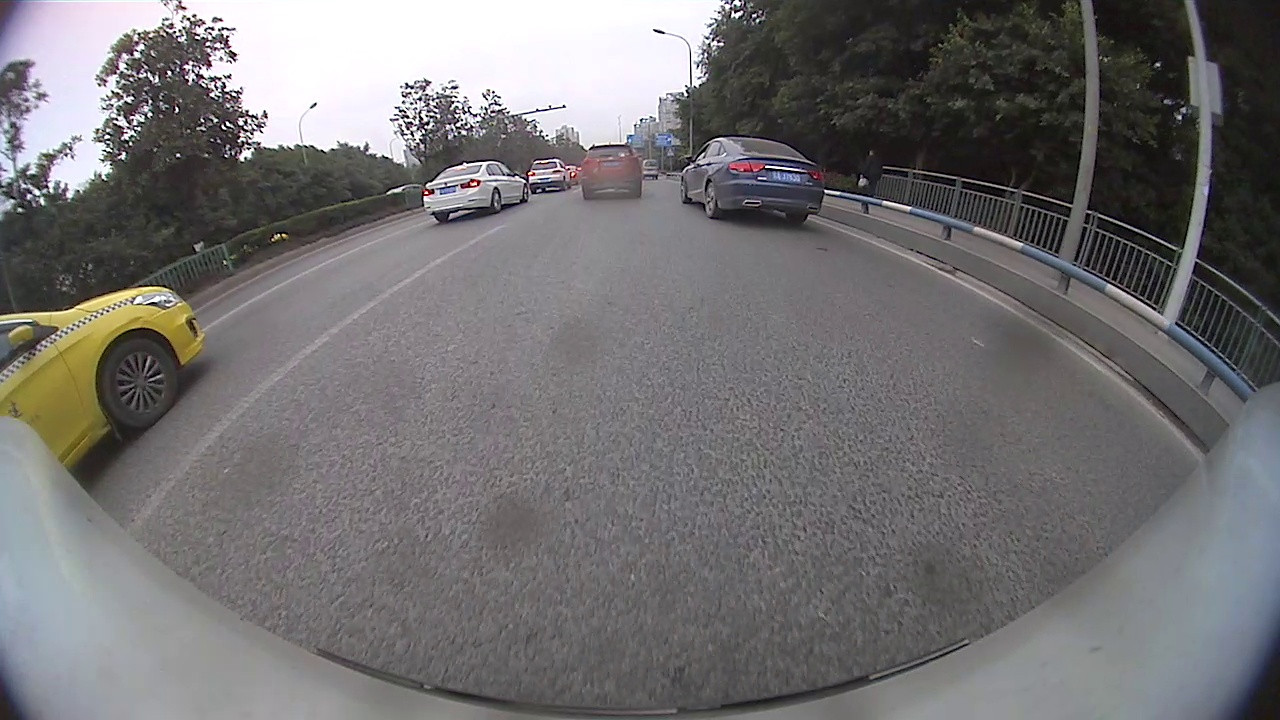car: (1, 283, 207, 472), (678, 135, 827, 227), (419, 158, 532, 224), (578, 144, 643, 200), (527, 155, 573, 193)
front: (96, 335, 184, 431)
person: (863, 146, 883, 217)
rear: (699, 179, 725, 222), (493, 189, 507, 214)
